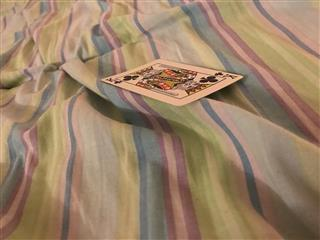KingOfClubs: (99, 58, 243, 107)
